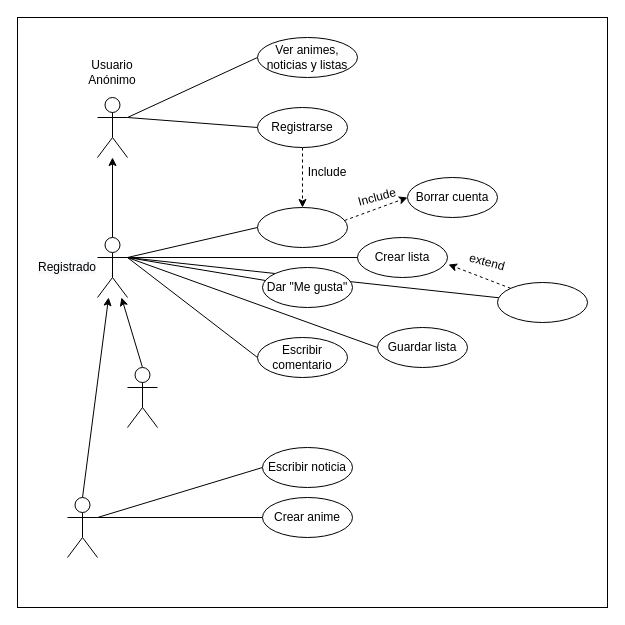
Image size: 625x625. Some labels were removed from this diagram. The shapes that lost their labels are listed below. From the top down, each one's box as (x1, y1, x2, y2) in pixels, then its label:
(256, 206, 348, 248): Iniciar sesión
(496, 282, 588, 322): Añadir anime a lista
(126, 366, 158, 428): Estándar
(66, 496, 98, 558): Administrador
